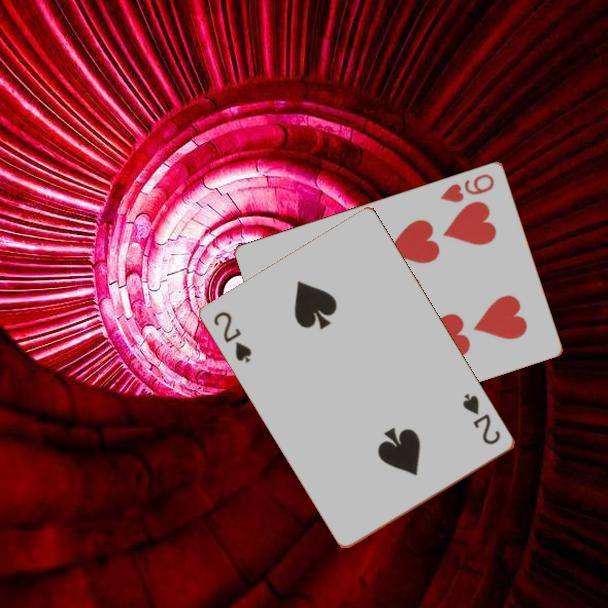h09: (437, 170, 497, 205)
s02: (459, 390, 504, 448), (211, 308, 255, 366)
